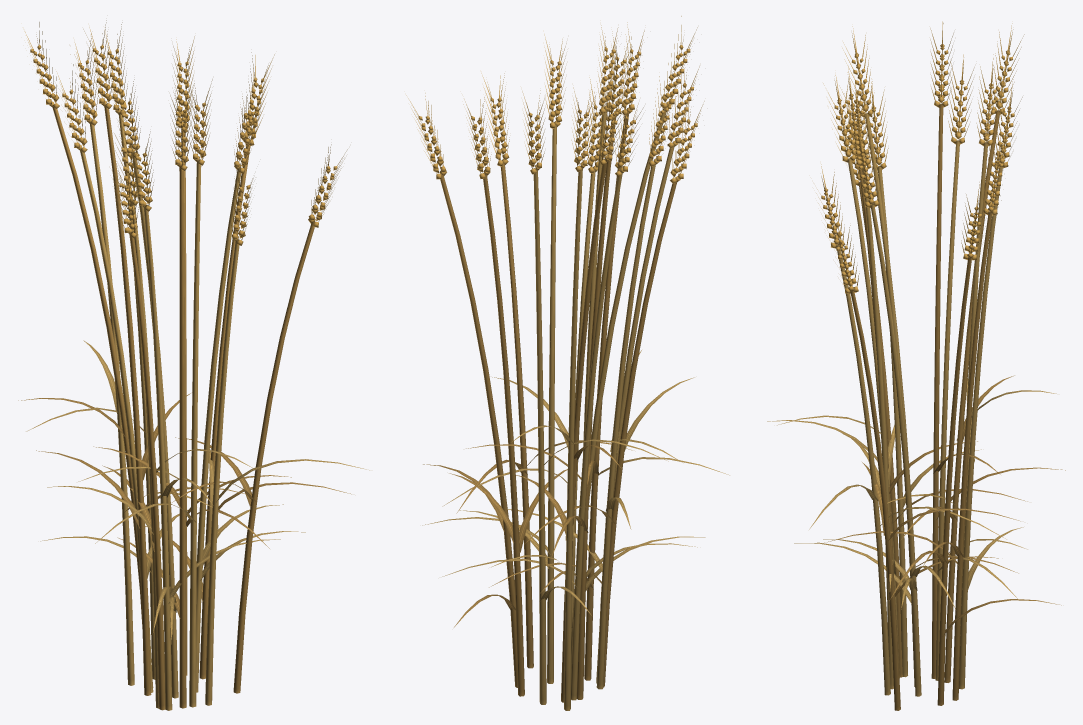
The model's file is WheatHarvest.fbx.
The picture shows the model from 3 angles, left to right: view 1: azimuth 30°, elevation 25°; view 2: azimuth 150°, elevation 25°; view 3: azimuth 270°, elevation 25°; orthographic projection. The views are drawn at different scales.
Visible parts, largest first — view 1: WheatHarvest_LOD0; view 2: WheatHarvest_LOD0; view 3: WheatHarvest_LOD0.
Part boxes in pixels (left/top/right/bottom): WheatHarvest_LOD0: left=18, top=20, right=369, bottom=710; WheatHarvest_LOD0: left=406, top=16, right=729, bottom=710; WheatHarvest_LOD0: left=767, top=21, right=1065, bottom=710.
Size of what is drawn, in the model's own units: 0.468 by 1.04 by 0.453.
